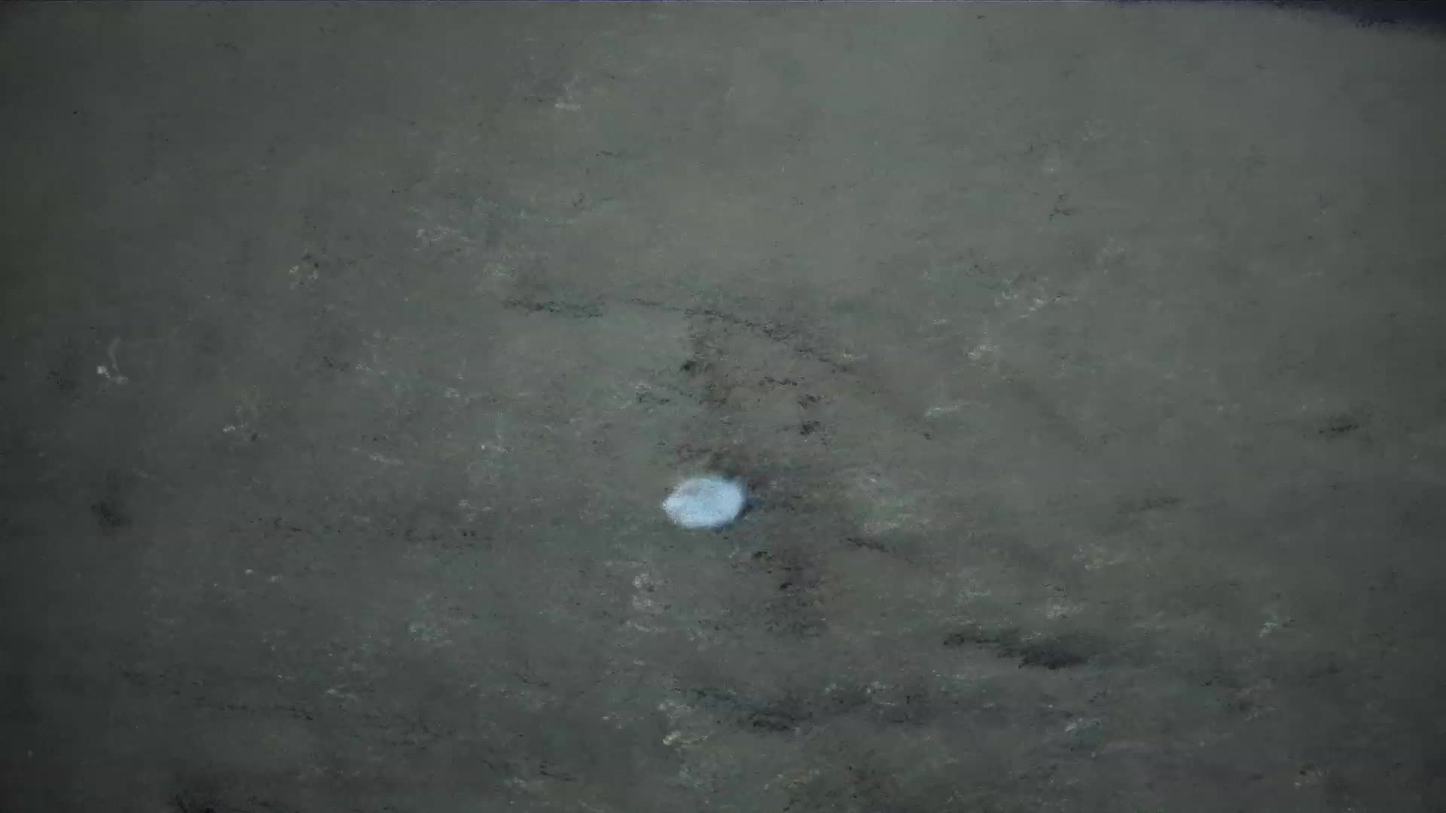Target: (659, 472, 753, 530)
